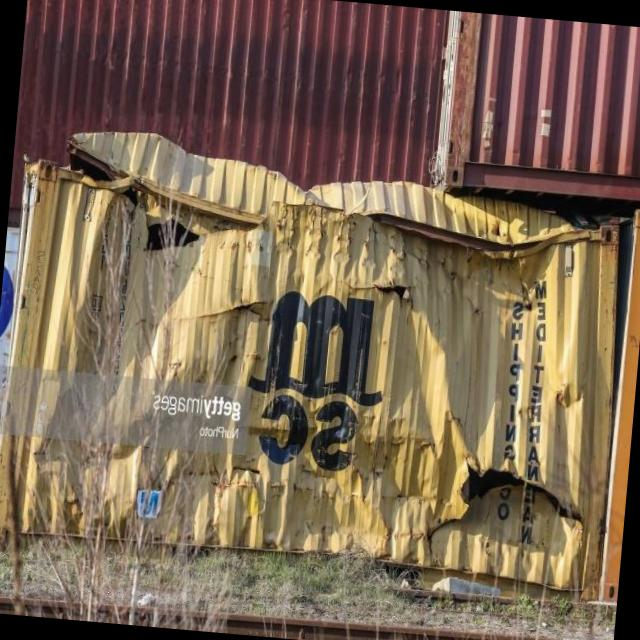Deframe_or_Dent: (0, 119, 635, 613)
